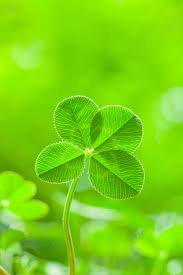4-clover: (35, 96, 144, 199)
